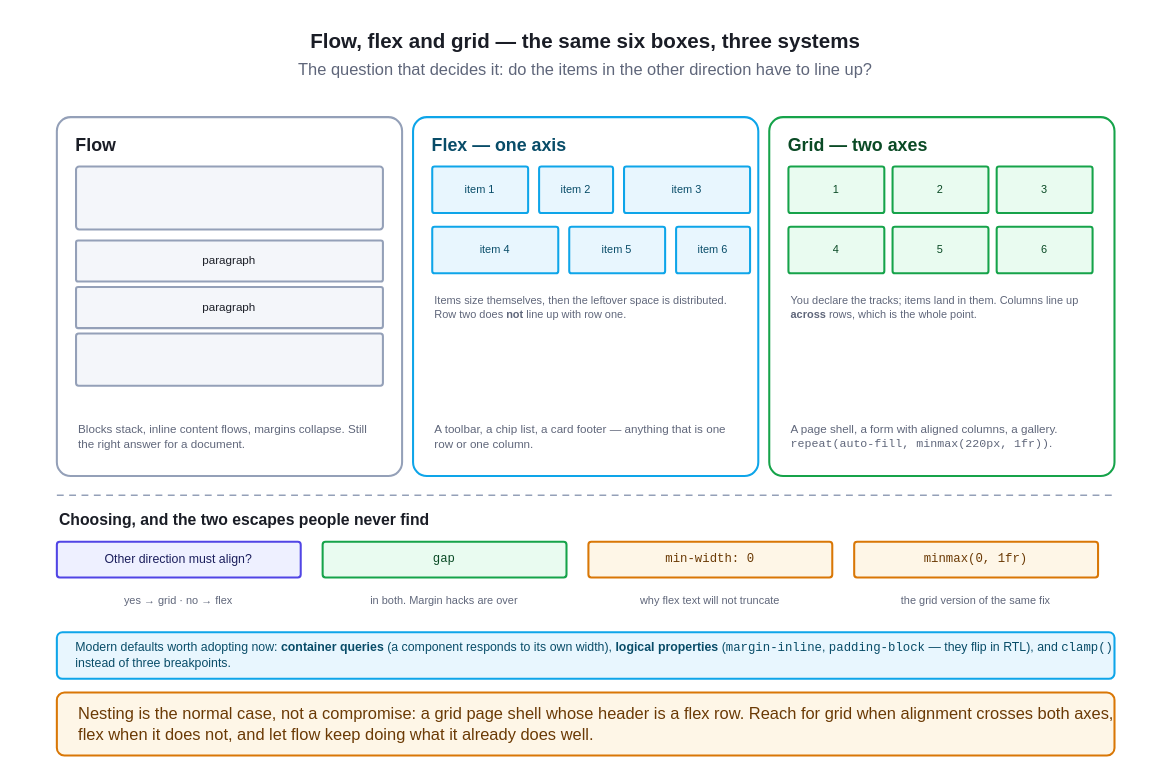
This 1170x780 diagram has some shape labels left out. The centre of each missing label's shape, as x and y in pixels:
"figure" goes at (228,359).
"heading" goes at (228,197).
